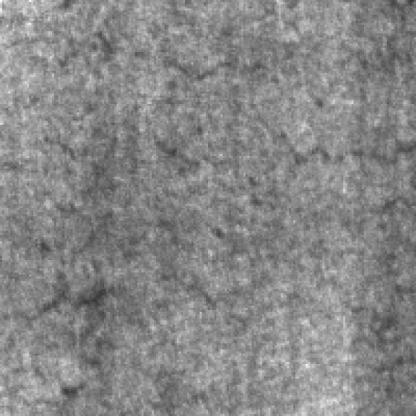crazing: (6, 140, 119, 348), (150, 91, 410, 174)
